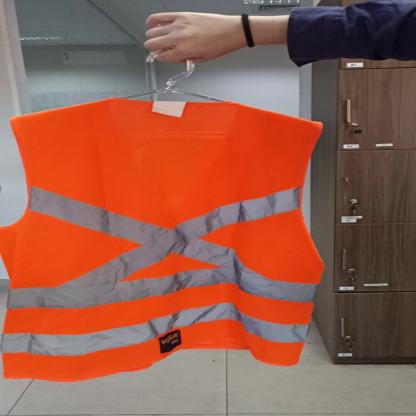colete: (2, 93, 318, 384)
